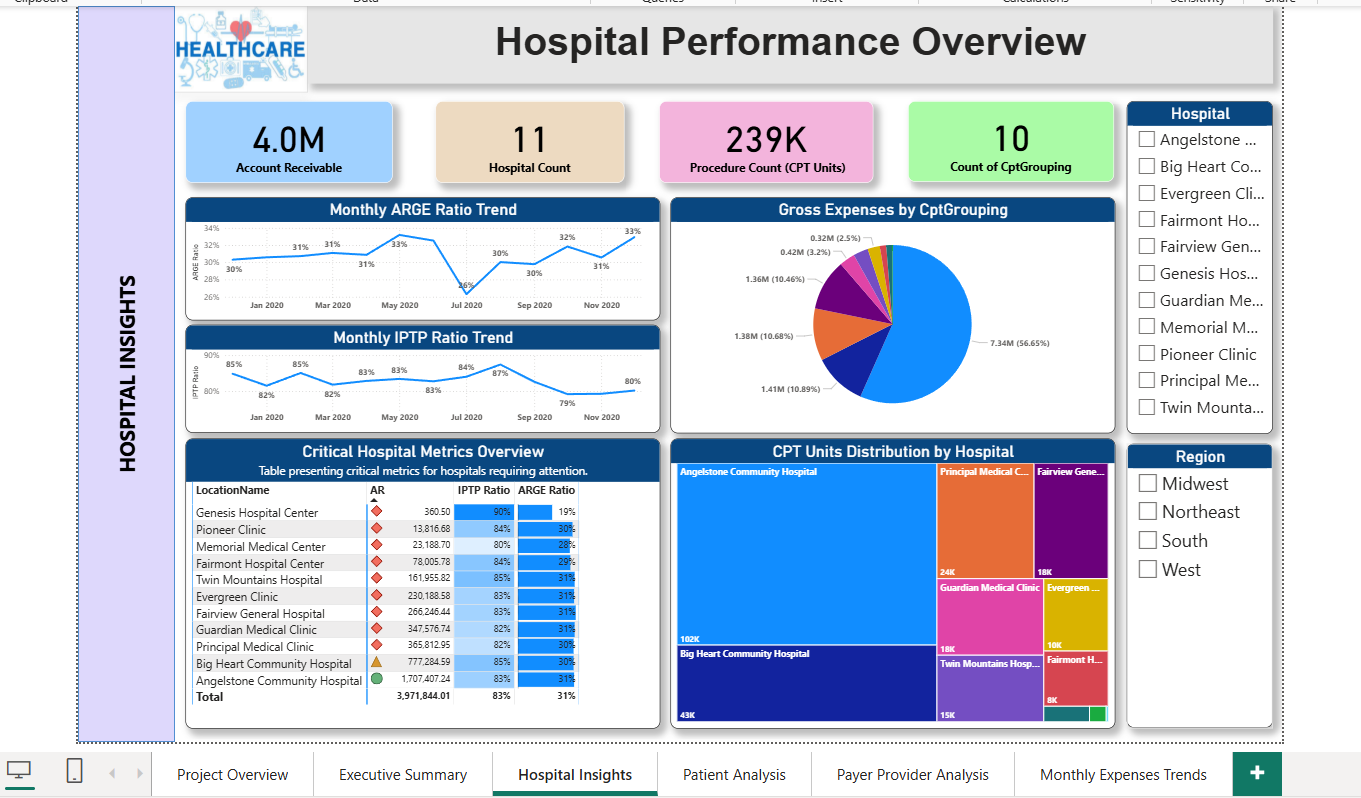

What the dashboard file says about the page in this screenshot:
{"tool":"powerbi","page":{"name":"Hospital Insights","canvas":[1800,1100],"ordinal":2},"visuals":[{"type":"image","box":[144.2,0,199.5,129.1],"z":0},{"type":"textbox","box":[344,0,1442,116],"z":1000},{"type":"shape","box":[0,0,144.6,1100],"z":2000},{"type":"card","fields":{"Values":["Sum(FactTable.AR)"]},"box":[160.1,141.2,309.9,122.2],"z":3000},{"type":"card","fields":{"Values":["DimHospital.Hospital Count"]},"box":[533.6,141.2,282.3,122.2],"z":4000},{"type":"card","fields":{"Values":["Sum(FactTable.CPTUnits)"]},"box":[869.3,141.2,320.2,122.2],"z":5000},{"type":"card","fields":{"Values":["Count(DimCptCode.CptGrouping)"]},"box":[1241.2,141.2,308.1,120.5],"z":6000},{"type":"lineChart","title":"Monthly ARGE Ratio Trend","fields":{"Category":["DimDate.Start of Month"],"Y":["FactTable.ARGE Ratio"]},"box":[160.1,285.8,709.2,184.2],"z":7000},{"type":"lineChart","title":"Monthly IPTP Ratio Trend","fields":{"Category":["DimDate.Start of Month"],"Y":["FactTable.IPTP Ratio"]},"box":[160.1,476.8,709.2,161.8],"z":8000},{"type":"pieChart","title":" Gross Expenses by CptGrouping","fields":{"Y":["Sum(FactTable.Gross Expenses)"],"Category":["DimCptCode.CptGrouping"]},"box":[884.8,285.8,664.5,352.9],"z":9000},{"type":"treemap","title":" CPT Units Distribution by Hospital","fields":{"Values":["Sum(FactTable.CPTUnits)"],"Group":["DimHospital.LocationName"]},"box":[884.8,645.5,664.5,433.8],"z":10000},{"type":"slicer","title":"Hospital ","fields":{"Values":["DimHospital.LocationName"]},"box":[1566.5,141.2,218.6,497.5],"z":11000},{"type":"slicer","title":"Region","fields":{"Values":["DimPatient.Region"]},"box":[1566.5,654.1,218.6,425.2],"z":12000},{"type":"pivotTable","title":"Critical Hospital Metrics Overview","fields":{"Values":["Sum(FactTable.AR)","FactTable.IPTP Ratio","FactTable.ARGE Ratio"],"Rows":["DimHospital.LocationName"]},"box":[160.1,645.5,709.2,433.8],"z":13000}]}

Visuals, with their boxes on the page's 1800x1100 design canvas (x1, y1, x2, y2). These are canvas units, not pixel positions in the 1361x798 screenshot, which may show the page scaled, cropped or inside an application window:
image: (left=144, top=0, right=344, bottom=129)
textbox: (left=344, top=0, right=1786, bottom=116)
shape: (left=0, top=0, right=145, bottom=1100)
card - Sum(FactTable.AR): (left=160, top=141, right=470, bottom=263)
card - DimHospital.Hospital Count: (left=534, top=141, right=816, bottom=263)
card - Sum(FactTable.CPTUnits): (left=869, top=141, right=1190, bottom=263)
card - Count(DimCptCode.CptGrouping): (left=1241, top=141, right=1549, bottom=262)
"Monthly ARGE Ratio Trend" lineChart: (left=160, top=286, right=869, bottom=470)
"Monthly IPTP Ratio Trend" lineChart: (left=160, top=477, right=869, bottom=639)
" Gross Expenses by CptGrouping" pieChart: (left=885, top=286, right=1549, bottom=639)
" CPT Units Distribution by Hospital" treemap: (left=885, top=646, right=1549, bottom=1079)
"Hospital " slicer: (left=1566, top=141, right=1785, bottom=639)
"Region" slicer: (left=1566, top=654, right=1785, bottom=1079)
"Critical Hospital Metrics Overview" pivotTable: (left=160, top=646, right=869, bottom=1079)
